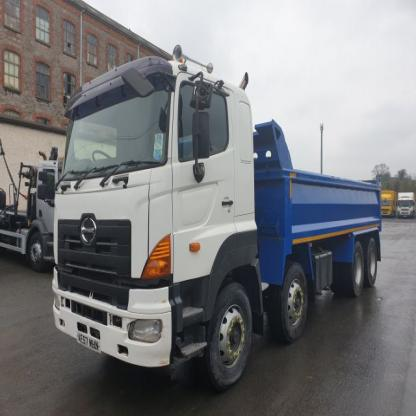dump_truck: (42, 38, 386, 395)
